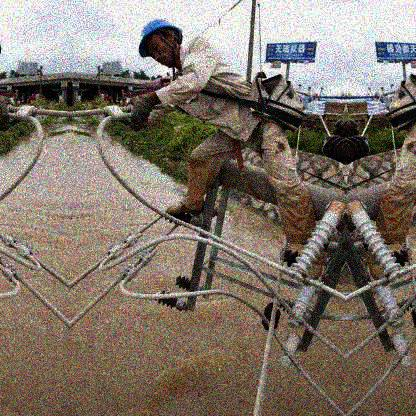helmet: (136, 18, 191, 67)
